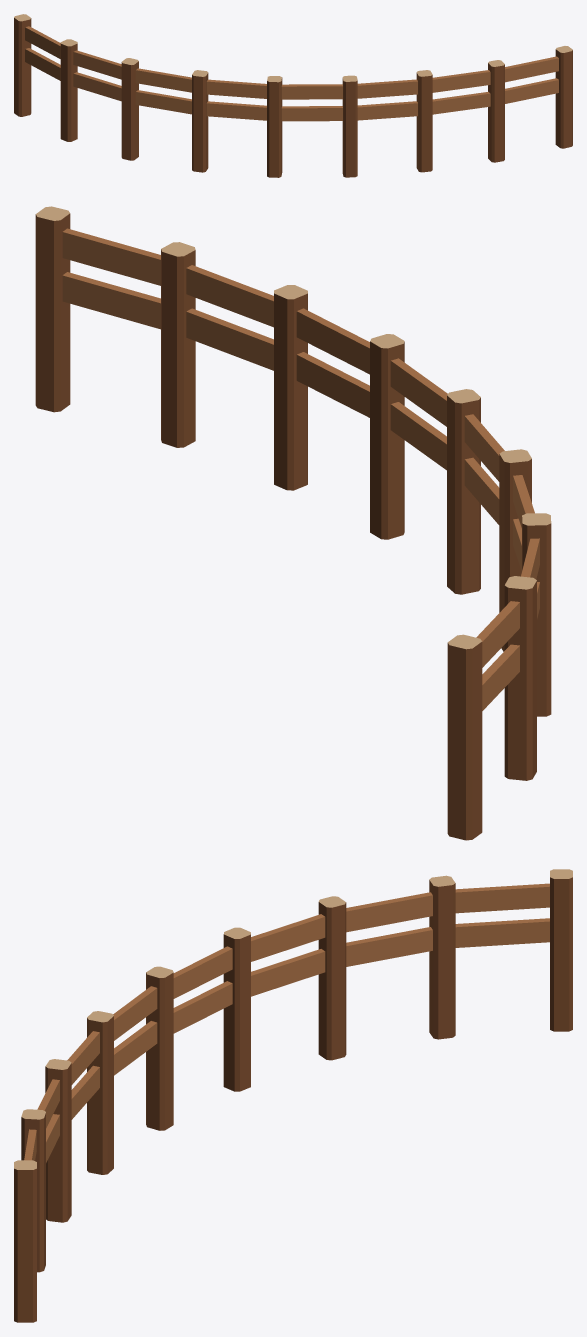
Rendered from Prop_Decorative_Fence_Curve_4x5.obj.
3 views of the same model, one above another, from view 1: azimuth 30°, elevation 25°; view 2: azimuth 150°, elevation 25°; view 3: azimuth 270°, elevation 25° (orthographic). The views are drawn at different scales.
Visible parts, largest first — view 1: Fence_Post_Side, Fence_Rail, Fence_Post_Top; view 2: Fence_Post_Side, Fence_Rail, Fence_Post_Top; view 3: Fence_Post_Side, Fence_Rail, Fence_Post_Top.
Part boxes in pixels (x1=…): Fence_Post_Side: x1=14, y1=18, x2=572, y2=177; Fence_Rail: x1=25, y1=26, x2=558, y2=121; Fence_Post_Top: x1=14, y1=14, x2=572, y2=82; Fence_Post_Side: x1=35, y1=213, x2=551, y2=840; Fence_Rail: x1=62, y1=228, x2=539, y2=710; Fence_Post_Top: x1=36, y1=206, x2=551, y2=649; Fence_Post_Side: x1=14, y1=877, x2=572, y2=1322; Fence_Rail: x1=24, y1=883, x2=549, y2=1162; Fence_Post_Top: x1=14, y1=869, x2=572, y2=1169.
Bounding box in the file's own units: 4.65 × 1.1 × 3.65.
